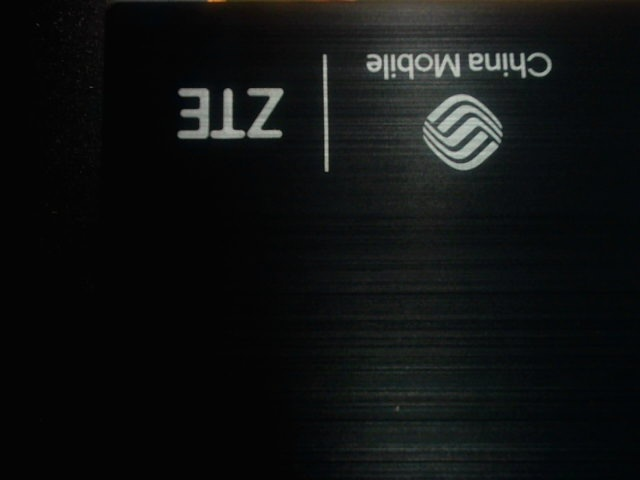AL_ZTEChinaMobile: (156, 31, 574, 187)
